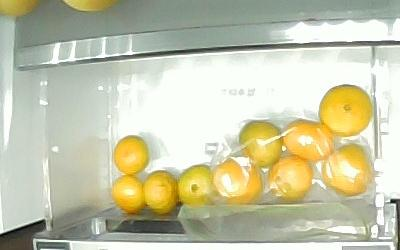tangerine: (317, 83, 372, 135), (175, 163, 216, 208), (141, 168, 178, 214), (112, 134, 150, 175), (110, 173, 146, 213)
tangerine_vinyl: (320, 141, 372, 196), (210, 157, 264, 205), (281, 116, 335, 161), (266, 153, 313, 203), (237, 119, 283, 168)
